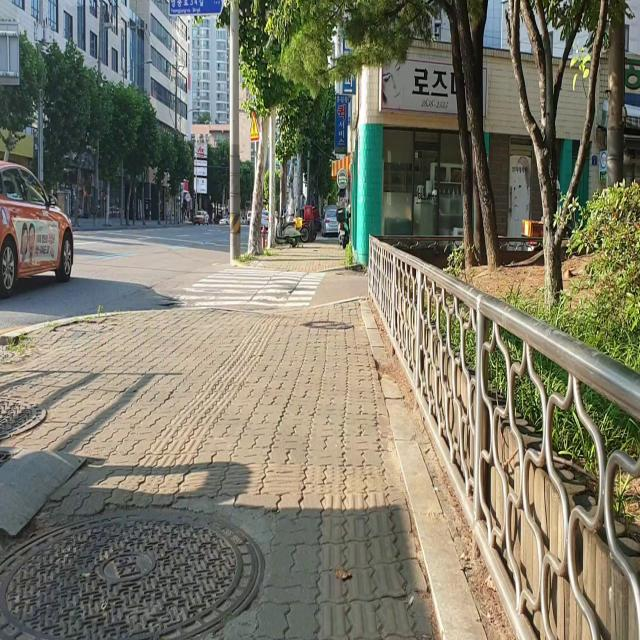횡단보도: (162, 268, 326, 306)
